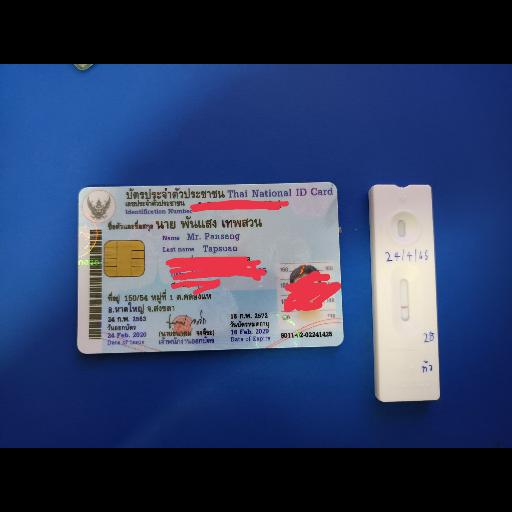Neg: (373, 184, 440, 401)
